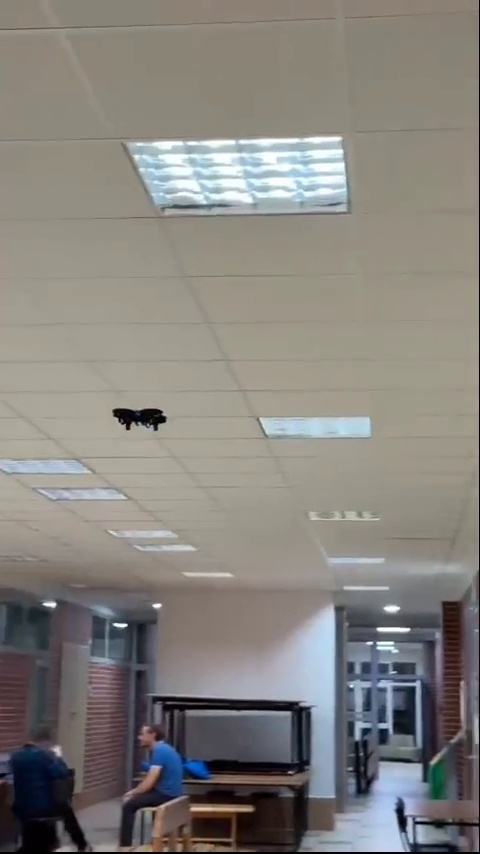drone: (111, 406, 174, 429)
no vest: (11, 722, 95, 842), (122, 722, 179, 820)
